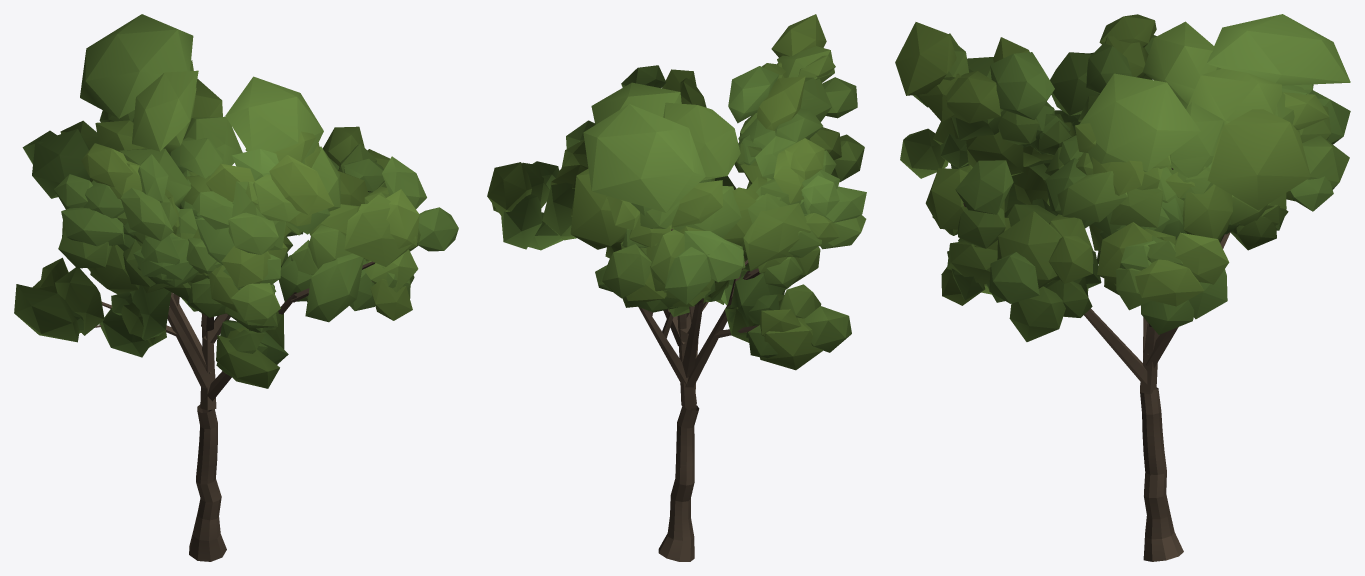
Rendered from tree_lime.glb.
3 renders of one model, left to right at view 1: azimuth 30°, elevation 25°; view 2: azimuth 150°, elevation 25°; view 3: azimuth 270°, elevation 25°, orthographic. The views are drawn at different scales.
Visible parts, largest first — view 1: tree_lime; view 2: tree_lime; view 3: tree_lime.
Part boxes in pixels (x1,y1,x2,y2): tree_lime: (14, 14, 458, 561); tree_lime: (487, 14, 866, 561); tree_lime: (895, 14, 1350, 561).
Size of the model in its own units: 7.22 by 9.2 by 7.13.
